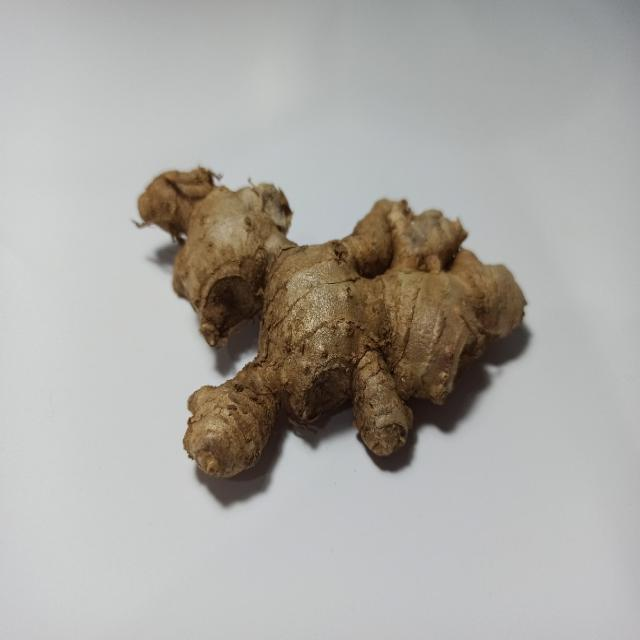ginger: (138, 165, 526, 480)
